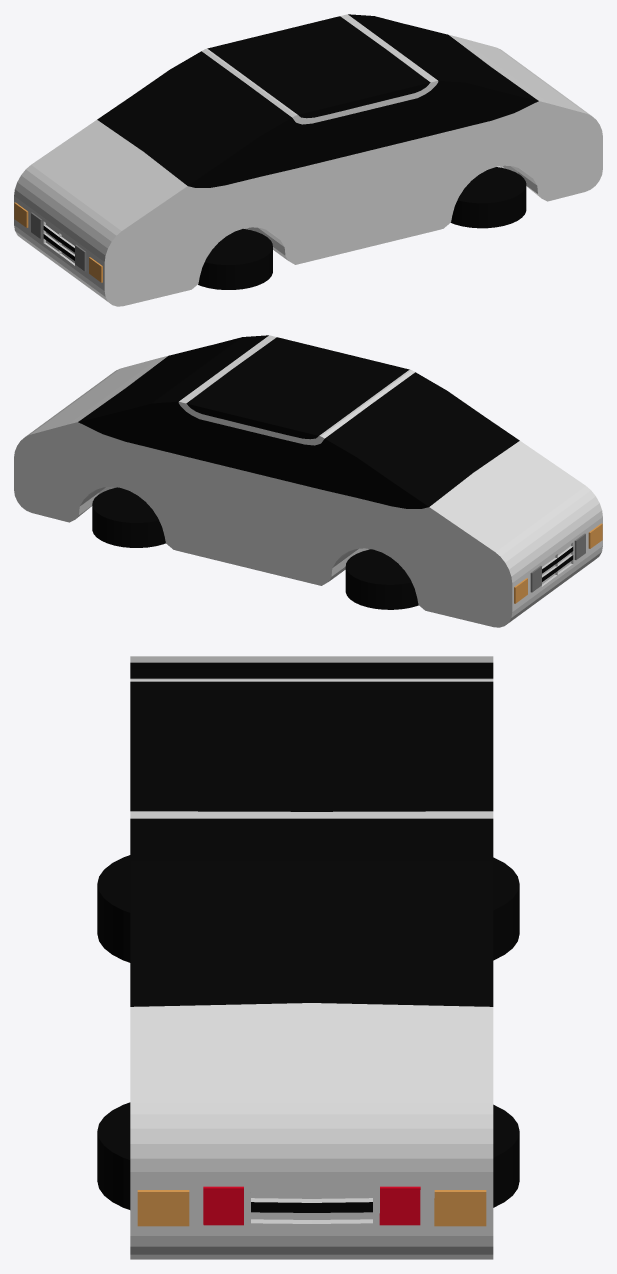
Rendered from Futuristic CAR.fbx.
3 views of the same model, one above another, from view 1: azimuth 30°, elevation 25°; view 2: azimuth 150°, elevation 25°; view 3: azimuth 270°, elevation 25° (orthographic). The views are drawn at different scales.
Parts seen in each view (by area): view 1: Cube; view 2: Cube; view 3: Cube.
Boxes of the visible parts, left/top/right/bottom form: Cube: left=14, top=14, right=602, bottom=306; Cube: left=14, top=335, right=602, bottom=627; Cube: left=97, top=656, right=519, bottom=1259.
Bounding box in the file's own units: 424 × 124 × 155.
